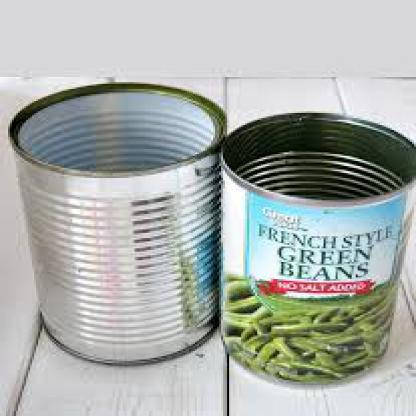METAL: (8, 81, 225, 364), (215, 108, 414, 383)
